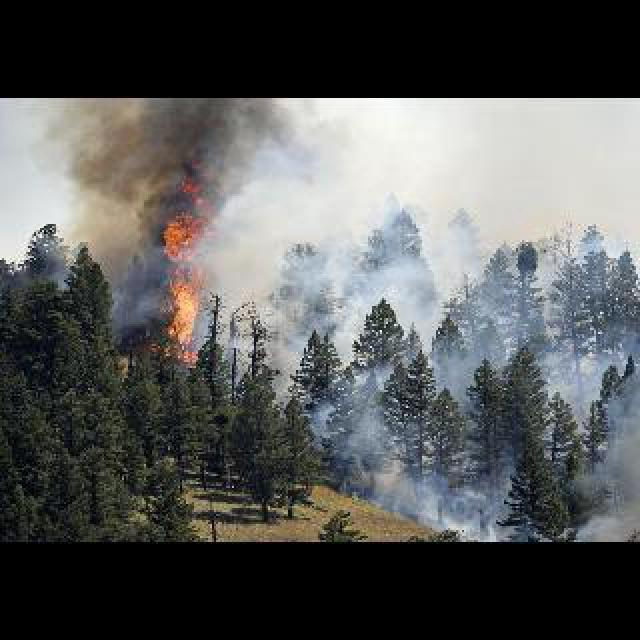Fire: (152, 168, 238, 370)
Smoke: (58, 98, 166, 344), (176, 96, 298, 224)
